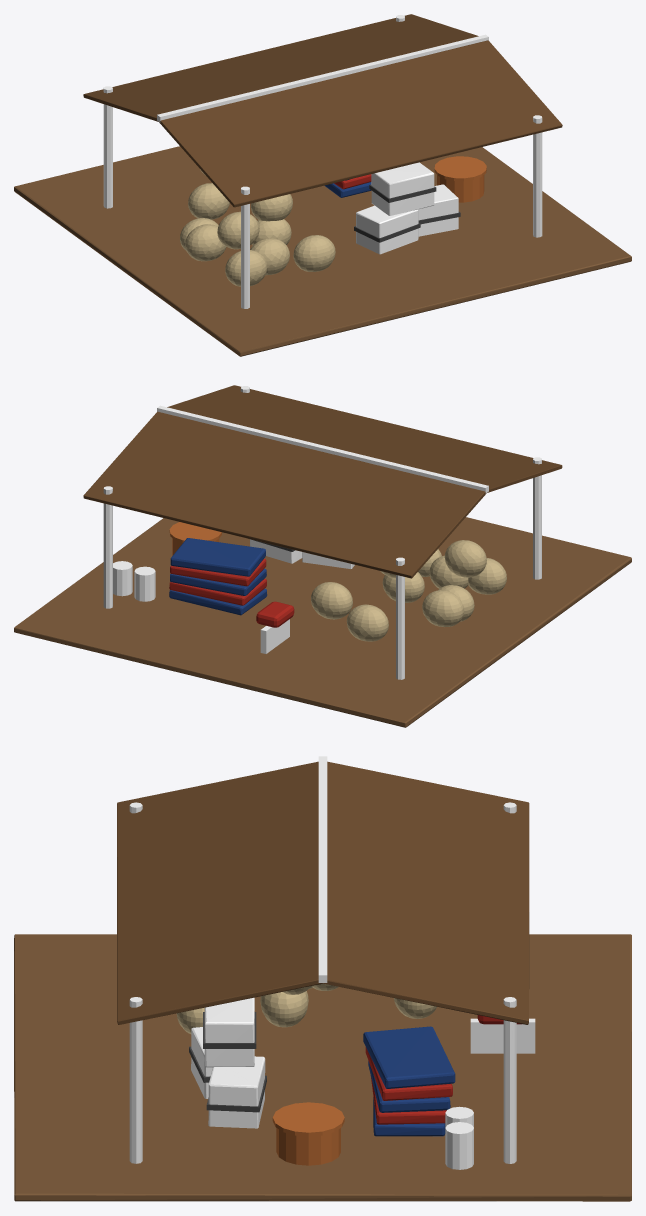
The model's file is yukyeri.glb.
The picture shows the model from 3 angles, top to bottom: view 1: azimuth 30°, elevation 25°; view 2: azimuth 150°, elevation 25°; view 3: azimuth 270°, elevation 25°; orthographic projection. The views are drawn at different scales.
Visible parts, largest first — view 1: Direk; view 2: Direk; view 3: Direk.
Part boxes in pixels (x1,y1,x2,y2): Direk: [14, 14, 631, 356]; Direk: [14, 385, 631, 727]; Direk: [14, 756, 631, 1201].
Bounding box in the file's own units: 1 × 0.3674 × 0.9995.
